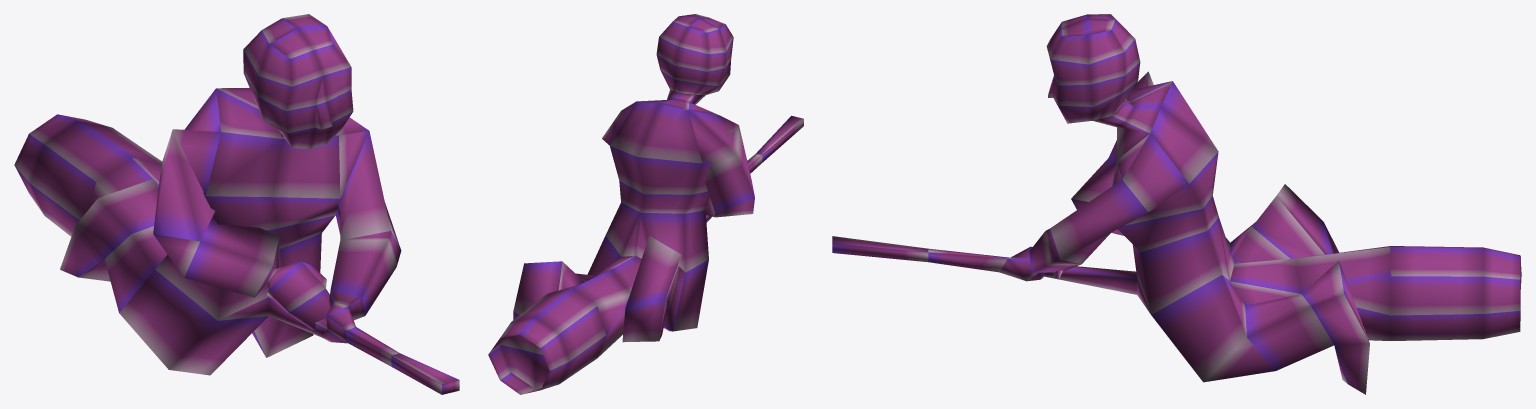
The picture shows the model from 3 angles, left to right: view 1: azimuth 30°, elevation 25°; view 2: azimuth 150°, elevation 25°; view 3: azimuth 270°, elevation 25°; orthographic projection. The views are drawn at different scales.
Parts seen in each view (by area): view 1: T1L9M006_27; view 2: T1L9M006_27; view 3: T1L9M006_27.
Boxes of the visible parts, x1,y1,x2,y2 form: T1L9M006_27: (14, 14, 459, 394); T1L9M006_27: (488, 14, 803, 394); T1L9M006_27: (832, 14, 1521, 394).
Size of the model in its own units: 0.5594 by 0.9683 by 1.77.
